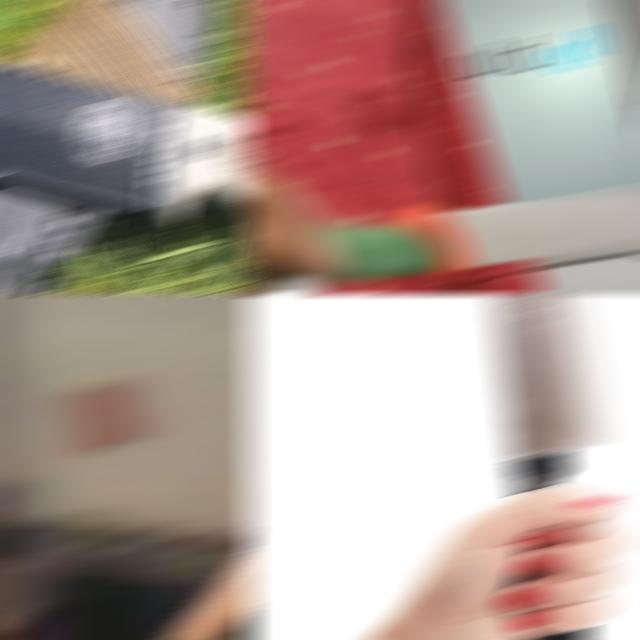Knife: (318, 191, 640, 278), (487, 295, 612, 491)
Knife_Handle: (80, 295, 255, 639)
